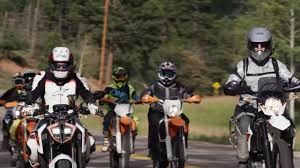helmet: (244, 25, 277, 62), (47, 46, 76, 80)
